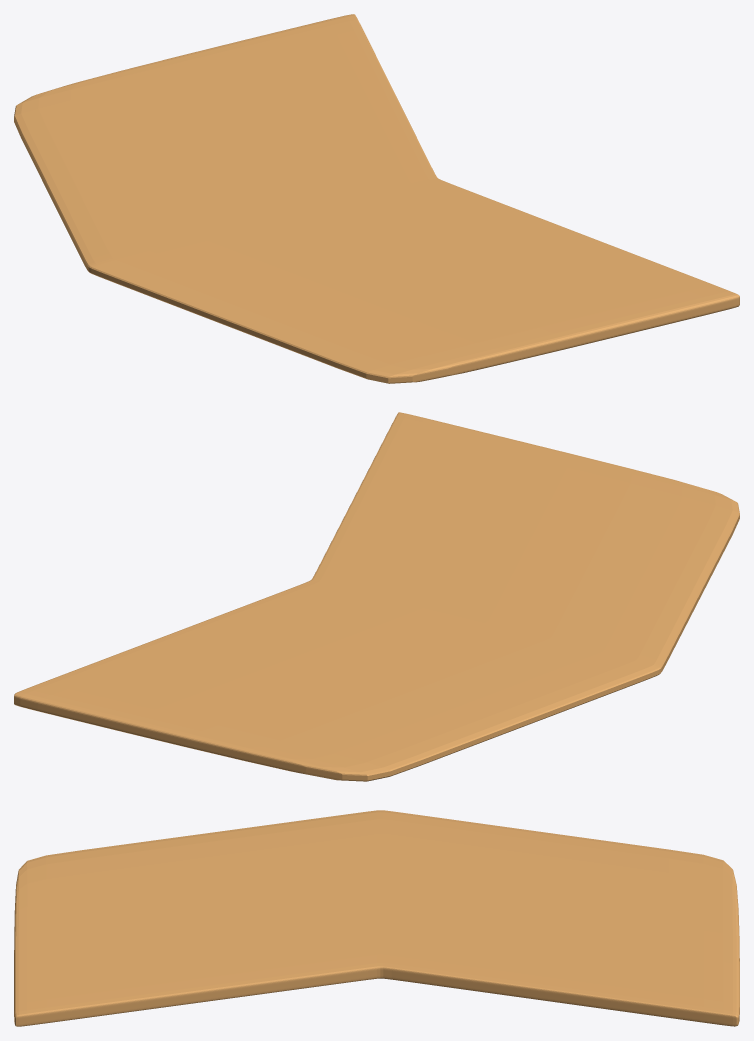
File: GroundPattern.fbx
3 views of the same model, one above another, from view 1: azimuth 30°, elevation 25°; view 2: azimuth 150°, elevation 25°; view 3: azimuth 270°, elevation 25° (orthographic). The views are drawn at different scales.
Visible parts, largest first — view 1: Plane.086; view 2: Plane.086; view 3: Plane.086.
Part boxes in pixels (x1,y1,x2,y2): Plane.086: (14, 14, 739, 383); Plane.086: (14, 412, 739, 781); Plane.086: (14, 810, 739, 1026).
Size of the model in its own units: 245 by 6.92 by 361.
